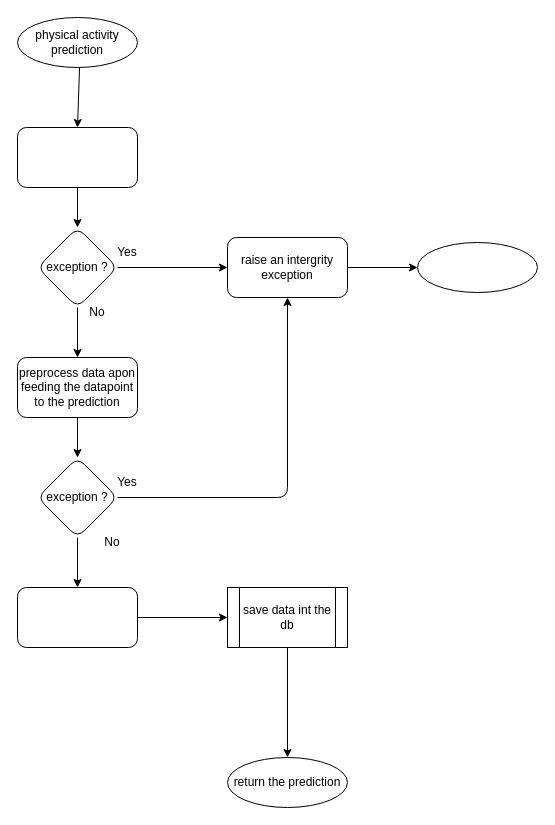
This 555x825 diagram has some shape labels left out. The centre of each missing label's shape, as x and y in pixels:
"exit" belongs at [477,267].
"get the prediction" belongs at [77,617].
"label encoding the categorical data" belongs at [77,157].
